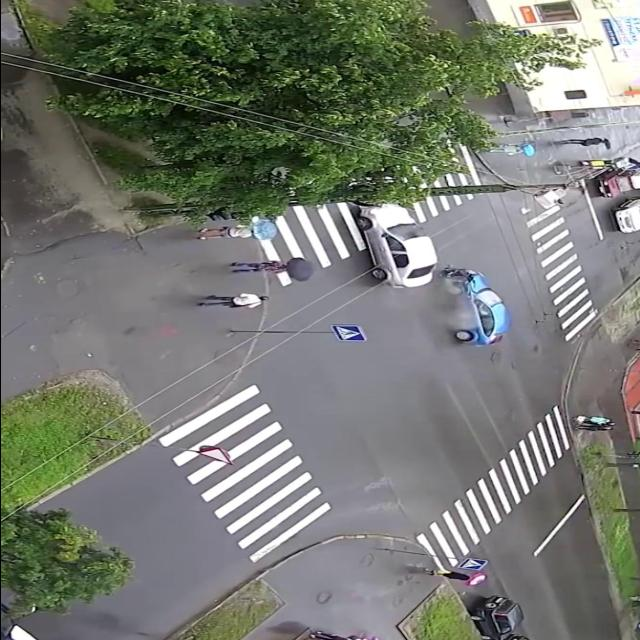accident: (354, 202, 520, 350)
